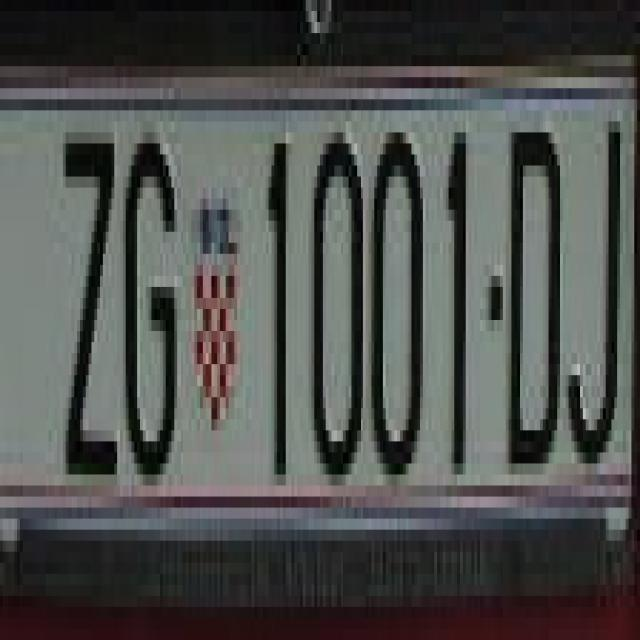0: (368, 100, 423, 474), (308, 132, 366, 486)
1: (440, 110, 477, 486), (257, 100, 286, 486)
D: (503, 121, 560, 464)
G: (120, 110, 180, 486)
Z: (60, 110, 120, 463)
